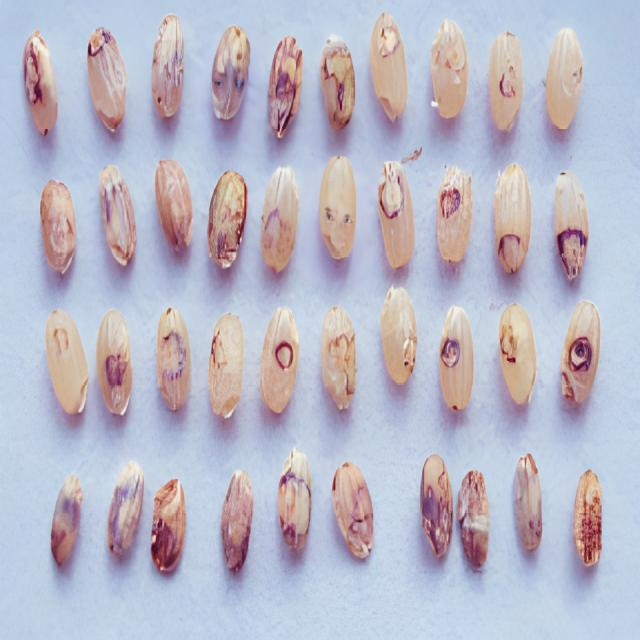Broken: (45, 308, 89, 416), (369, 12, 408, 125), (560, 300, 602, 404), (88, 26, 128, 134), (260, 306, 300, 414), (332, 460, 375, 560), (260, 165, 299, 274), (378, 160, 416, 270), (494, 163, 531, 275), (207, 170, 248, 271), (554, 169, 590, 282), (99, 163, 137, 268), (500, 302, 538, 406), (430, 19, 469, 120), (154, 159, 195, 255), (319, 154, 356, 260), (97, 308, 133, 416), (546, 27, 584, 129), (156, 306, 192, 412), (208, 313, 244, 419), (211, 25, 251, 119), (439, 306, 474, 412), (220, 468, 254, 577), (267, 36, 302, 140), (322, 304, 356, 411), (107, 460, 144, 558), (380, 286, 417, 384), (152, 14, 186, 120), (23, 34, 58, 136), (420, 454, 454, 558), (40, 179, 77, 274), (278, 450, 312, 553), (321, 34, 356, 132), (151, 478, 186, 575), (437, 165, 472, 262), (490, 31, 524, 129), (457, 469, 490, 568), (51, 472, 82, 570), (514, 452, 542, 552), (573, 471, 602, 566)
